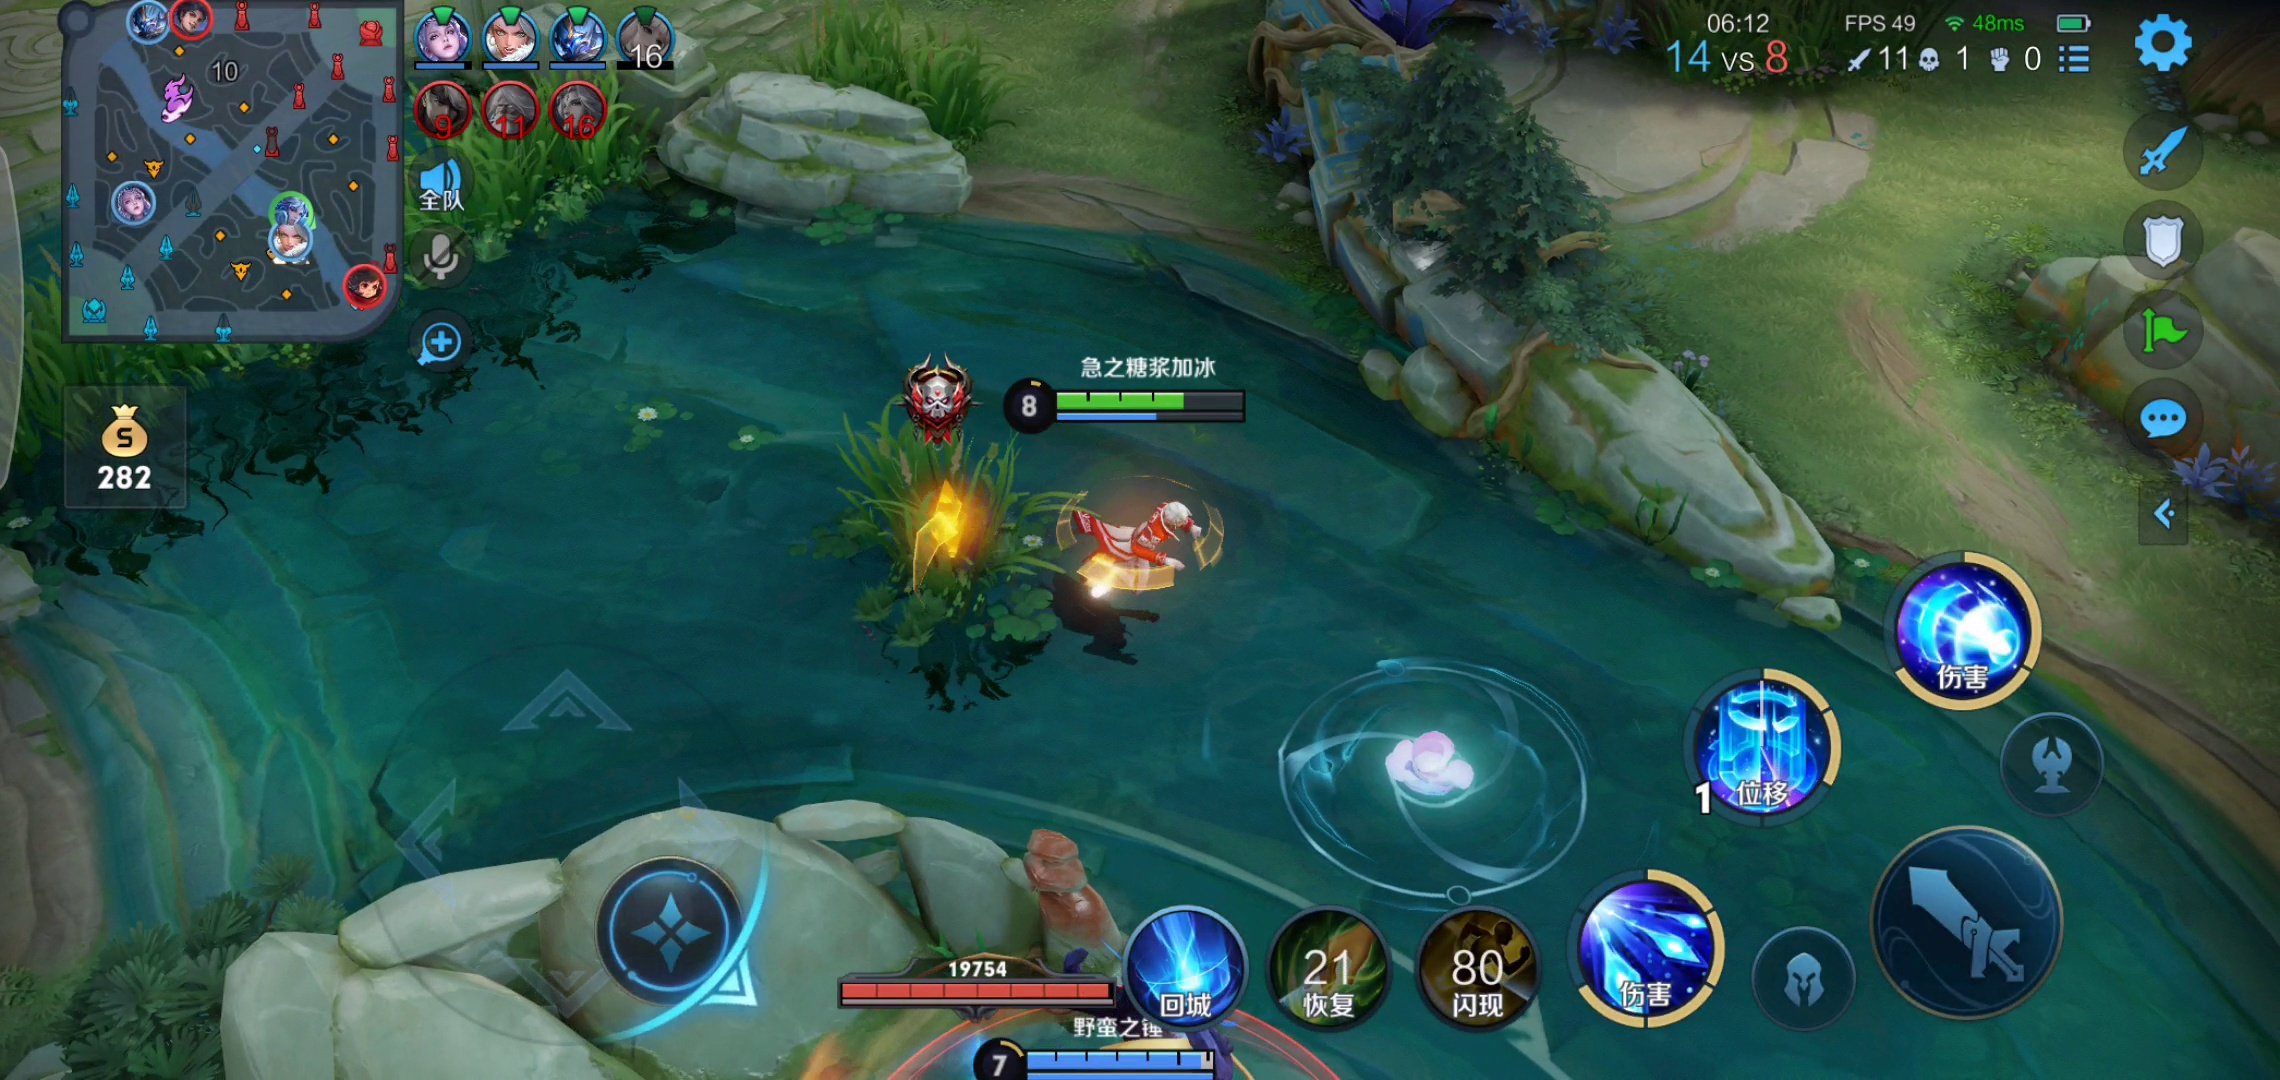grass: (38, 58, 638, 470), (808, 406, 1027, 660), (807, 17, 1019, 140)
hero: (1080, 484, 1203, 613)
